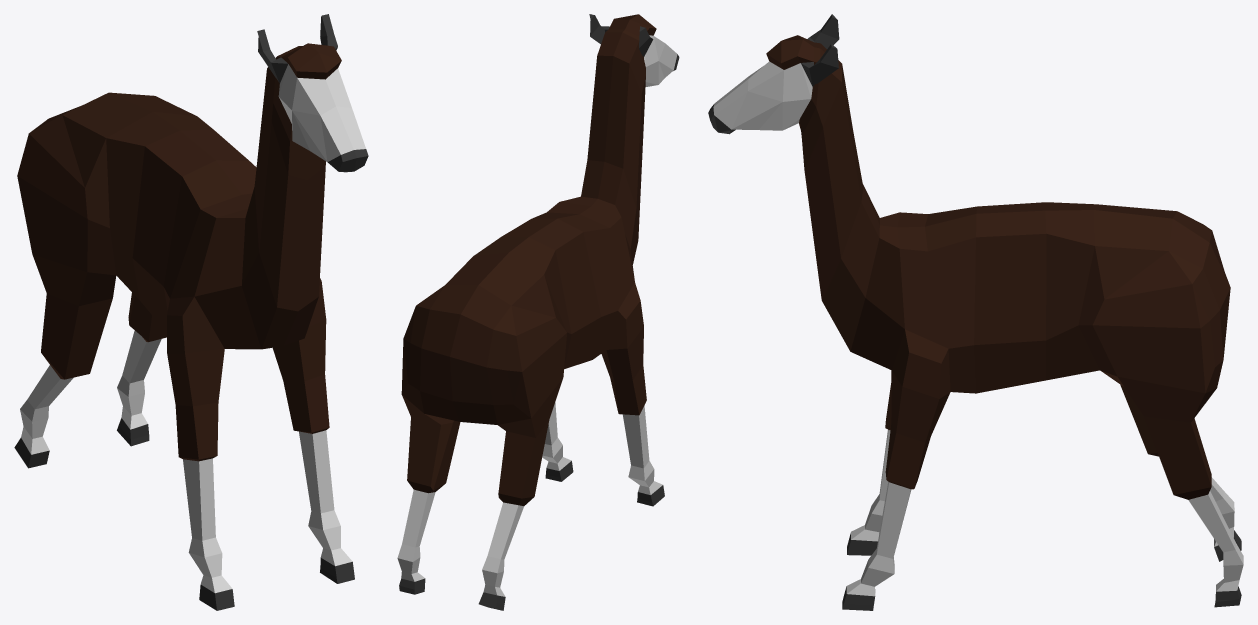
The model's file is Llama__1_000024.obj.
3 views of the same model, side by side, from view 1: azimuth 30°, elevation 25°; view 2: azimuth 150°, elevation 25°; view 3: azimuth 270°, elevation 25° (orthographic). The views are drawn at different scales.
Parts seen in each view (by area): view 1: Llama_Cylinder; view 2: Llama_Cylinder; view 3: Llama_Cylinder.
Part boxes in pixels (x1,y1,x2,y2): Llama_Cylinder: (14, 14, 368, 610); Llama_Cylinder: (397, 14, 679, 610); Llama_Cylinder: (708, 14, 1243, 610).
Size of the model in its own units: 1.57 by 5.68 by 4.99.
